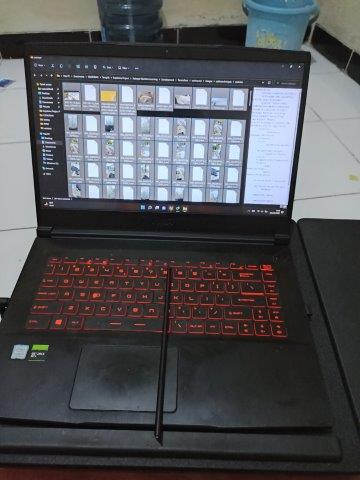sedotan: (155, 269, 171, 438)
